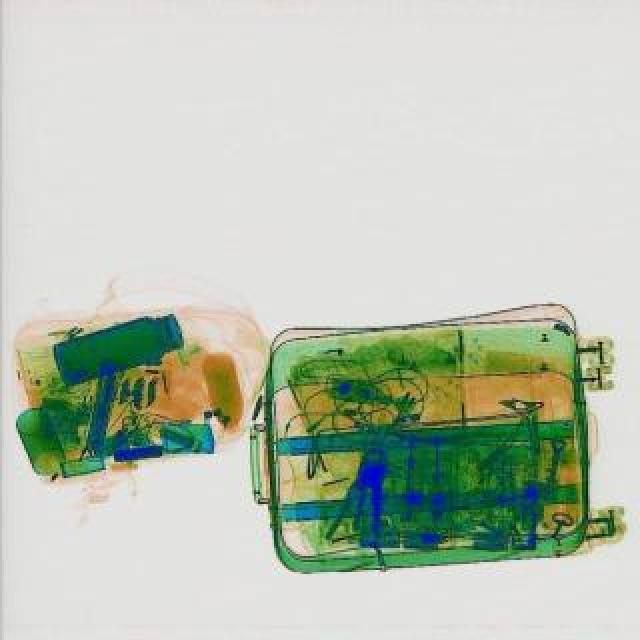wrench: (324, 444, 404, 552)
